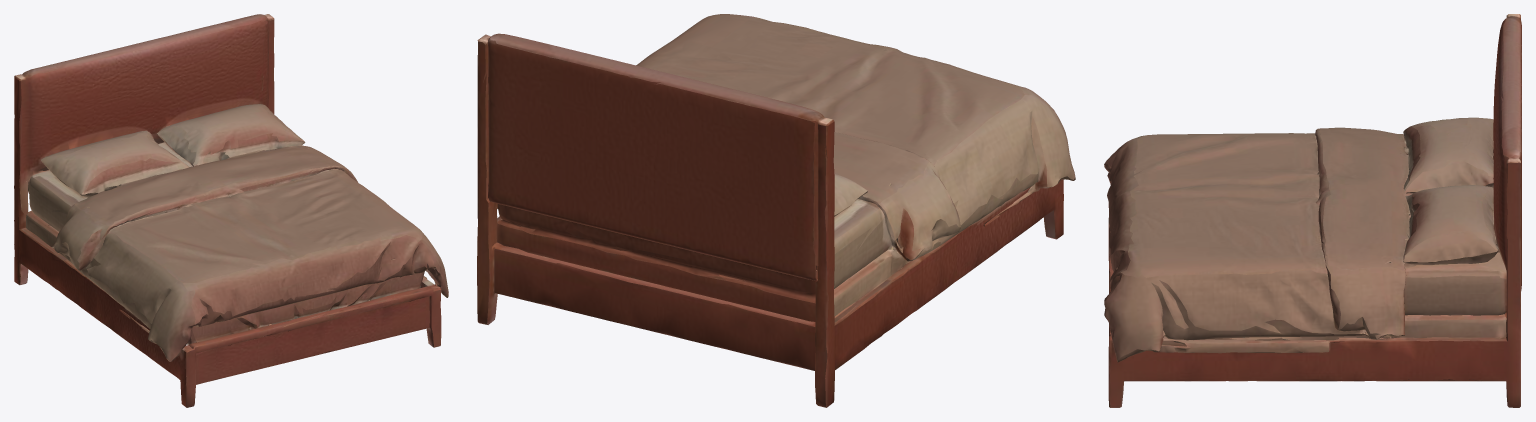
File: L_BED_DOUBLE.industrial.glb
3 views of the same model, side by side, from view 1: azimuth 30°, elevation 25°; view 2: azimuth 150°, elevation 25°; view 3: azimuth 270°, elevation 25° (orthographic). The views are drawn at different scales.
Parts seen in each view (by area): view 1: geometry_0; view 2: geometry_0; view 3: geometry_0.
Boxes of the visible parts, left/top/right/bottom form: geometry_0: left=14, top=14, right=448, bottom=407; geometry_0: left=477, top=14, right=1075, bottom=407; geometry_0: left=1104, top=14, right=1521, bottom=407.
Bounding box in the file's own units: 2.15 × 1.49 × 2.25.
1 material, 1 textured.
